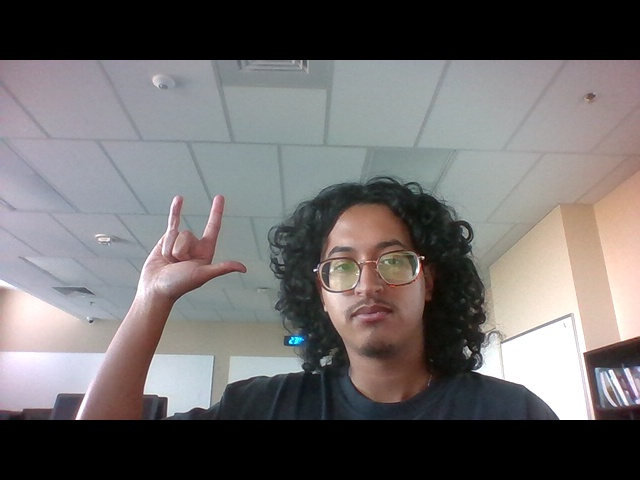iloveyou: (133, 181, 253, 309)
